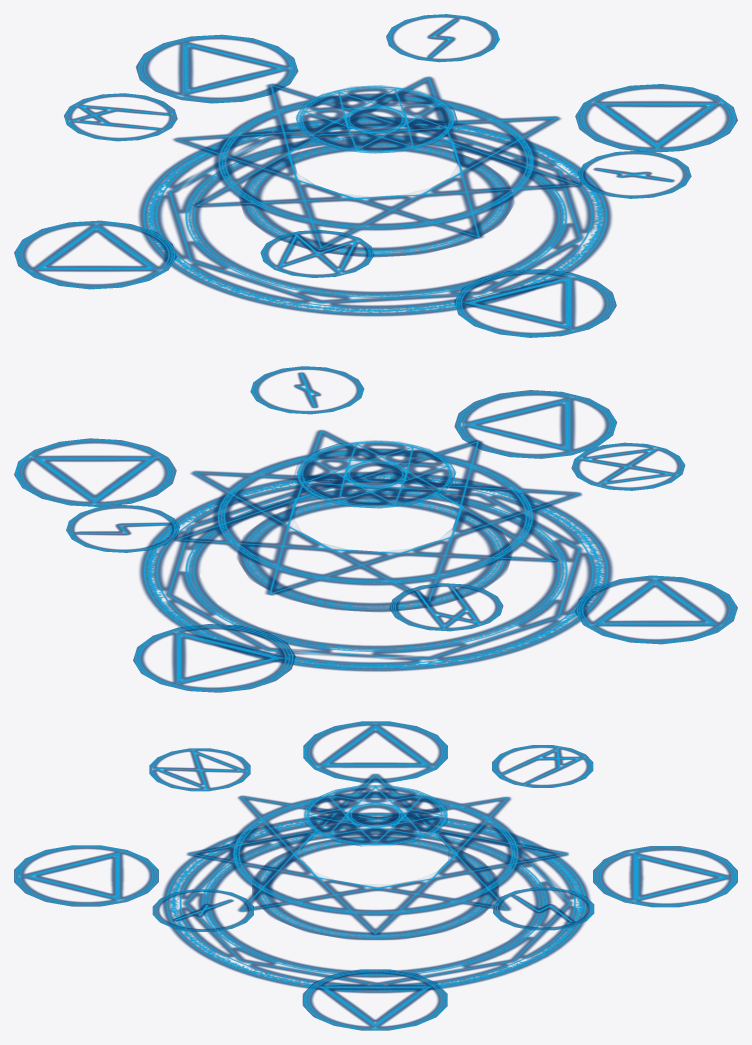
Rendered from magic_circle.glb.
3 renders of one model, top to bottom at view 1: azimuth 30°, elevation 25°; view 2: azimuth 150°, elevation 25°; view 3: azimuth 270°, elevation 25°, orthographic. The views are drawn at different scales.
Visible parts, largest first — view 1: base, big_star, little_star8, base_middle_cicrle, down_rune, little_star7, little_star, up_rune, crossed_box_rune, tall_rune, bolt_rune, line_rune; view 2: base, big_star, little_star8, base_middle_cicrle, up_rune, little_star7, little_star, down_rune, crossed_box_rune, tall_rune, bolt_rune, line_rune; view 3: base, big_star, little_star8, base_middle_cicrle, up_rune, down_rune, little_star7, little_star, crossed_box_rune, tall_rune, bolt_rune, line_rune.
Boxes of the visible parts, <box> form: base: <box>138,116,611,316</box>; big_star: <box>173,76,582,248</box>; little_star8: <box>296,85,457,153</box>; base_middle_cicrle: <box>239,141,514,257</box>; down_rune: <box>454,269,616,337</box>; little_star7: <box>575,84,737,152</box>; little_star: <box>14,220,176,289</box>; up_rune: <box>136,34,298,103</box>; crossed_box_rune: <box>260,230,374,277</box>; tall_rune: <box>64,93,177,141</box>; bolt_rune: <box>386,14,499,62</box>; line_rune: <box>577,150,691,198</box>; base: <box>139,471,612,671</box>; big_star: <box>173,430,581,602</box>; little_star8: <box>294,440,455,508</box>; base_middle_cicrle: <box>237,496,512,612</box>; up_rune: <box>133,624,295,692</box>; little_star7: <box>14,438,176,506</box>; little_star: <box>575,575,737,644</box>; down_rune: <box>454,390,616,458</box>; crossed_box_rune: <box>571,442,685,490</box>; tall_rune: <box>389,583,503,631</box>; bolt_rune: <box>66,504,179,552</box>; line_rune: <box>250,366,364,414</box>; base: <box>162,812,589,993</box>; big_star: <box>186,773,568,934</box>; little_star8: <box>304,785,447,846</box>; base_middle_cicrle: <box>252,836,498,939</box>; up_rune: <box>593,846,737,907</box>; down_rune: <box>14,845,158,906</box>; little_star7: <box>302,969,447,1030</box>; little_star: <box>303,721,447,782</box>; crossed_box_rune: <box>149,748,250,791</box>; tall_rune: <box>492,745,593,787</box>; bolt_rune: <box>493,887,594,930</box>; line_rune: <box>152,889,253,931</box>.
Size of the model in its own units: 99.49 by 13.17 by 98.49.
Materials: 1 (1 with a texture image).
